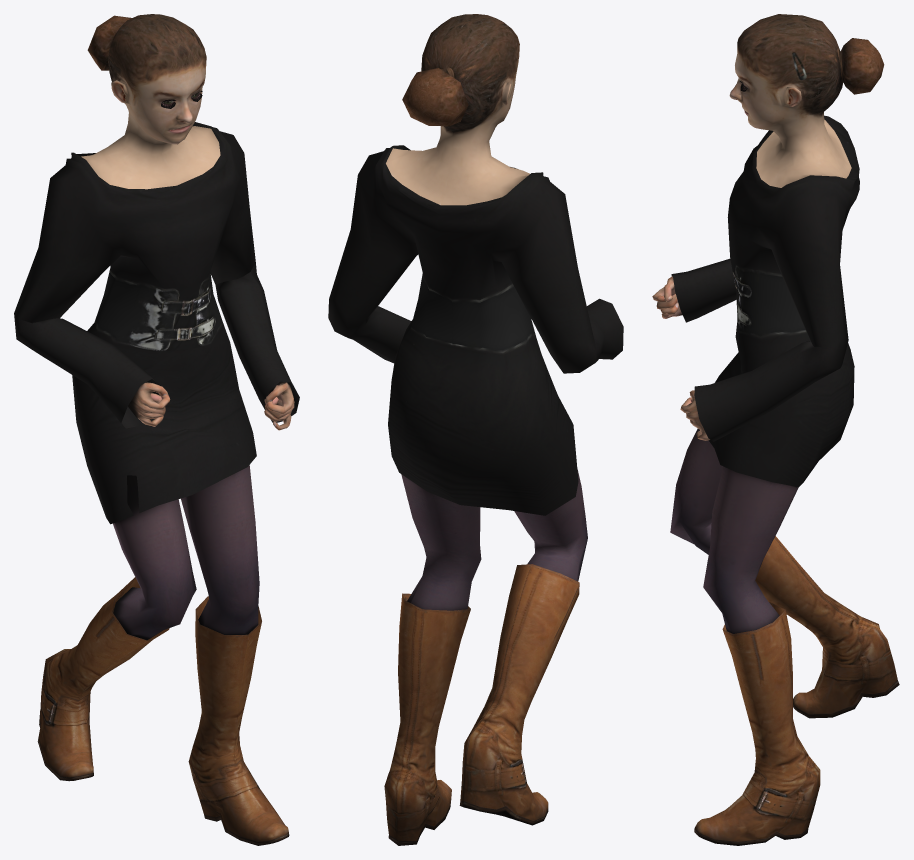
The model's file is Ana_Model_000004.obj.
3 views of the same model, side by side, from view 1: azimuth 30°, elevation 25°; view 2: azimuth 150°, elevation 25°; view 3: azimuth 270°, elevation 25° (orthographic). The views are drawn at different scales.
Visible parts, largest first — view 1: Ana_Cube.004; view 2: Ana_Cube.004; view 3: Ana_Cube.004.
Part boxes in pixels (bbox=[...]): Ana_Cube.004: bbox=[14, 14, 299, 845]; Ana_Cube.004: bbox=[328, 14, 623, 845]; Ana_Cube.004: bbox=[652, 14, 899, 845].
Size of the model in its own units: 0.6061 by 1.89 by 0.5386.
Materials: 1 (1 with a texture image).
